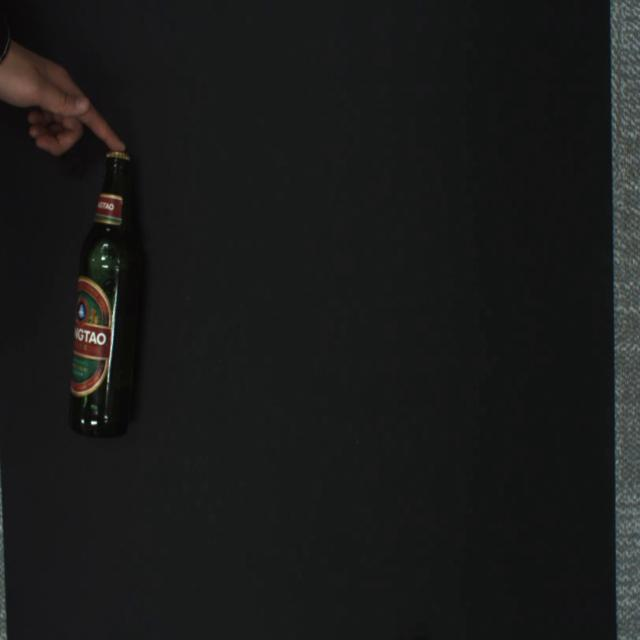beer-bottle: (68, 149, 142, 437)
